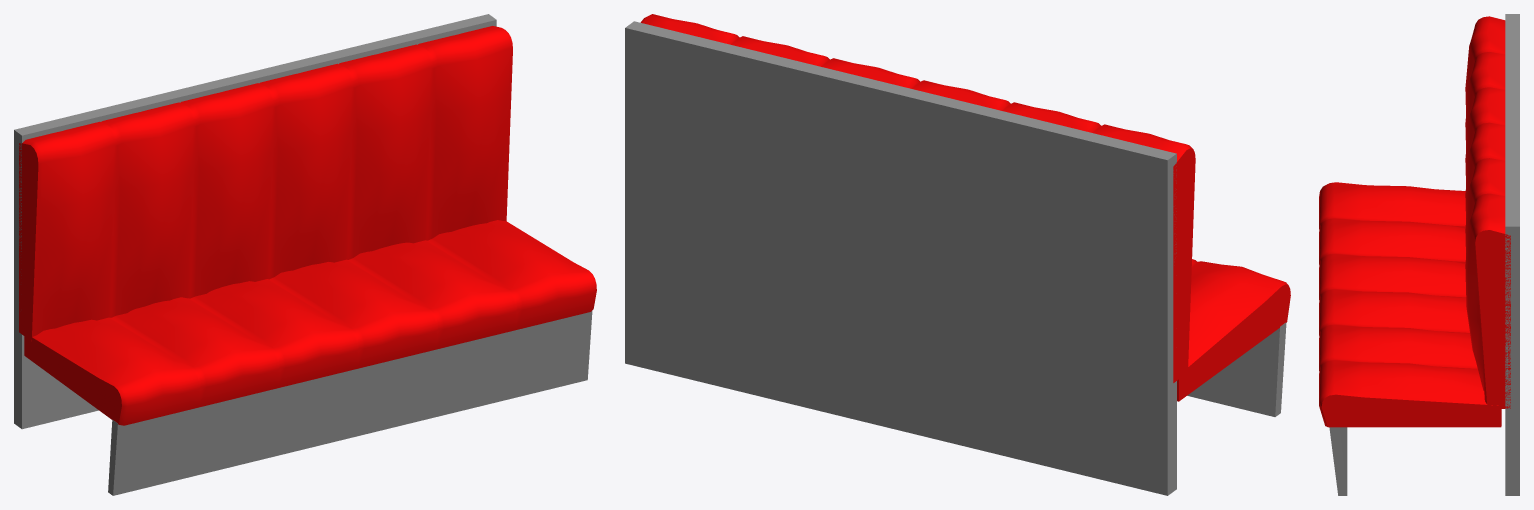
File: SM_BoothStraight.FBX
The picture shows the model from 3 angles, left to right: view 1: azimuth 30°, elevation 25°; view 2: azimuth 150°, elevation 25°; view 3: azimuth 270°, elevation 25°; orthographic projection. The views are drawn at different scales.
Parts seen in each view (by area): view 1: SM_RightPanel; view 2: SM_RightPanel; view 3: SM_RightPanel.
Boxes of the visible parts, box(x1,y1,x2,y2) form: SM_RightPanel: box(14, 14, 596, 495); SM_RightPanel: box(625, 14, 1290, 495); SM_RightPanel: box(1319, 14, 1519, 495).
Bounding box in the file's own units: 240 × 142 × 95.85.
